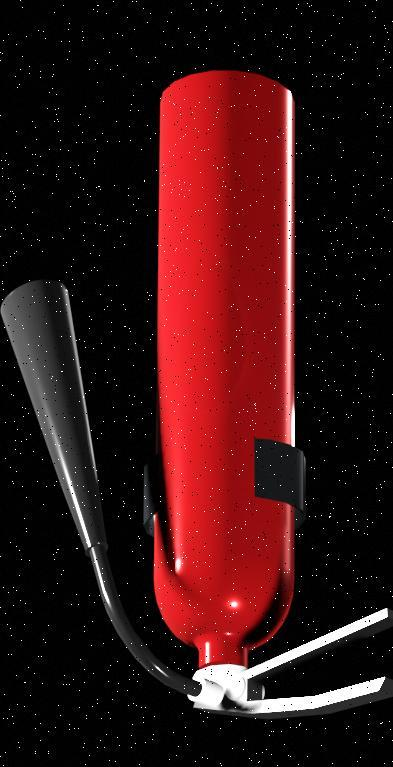Fire Extinguisher: (12, 44, 393, 724)
